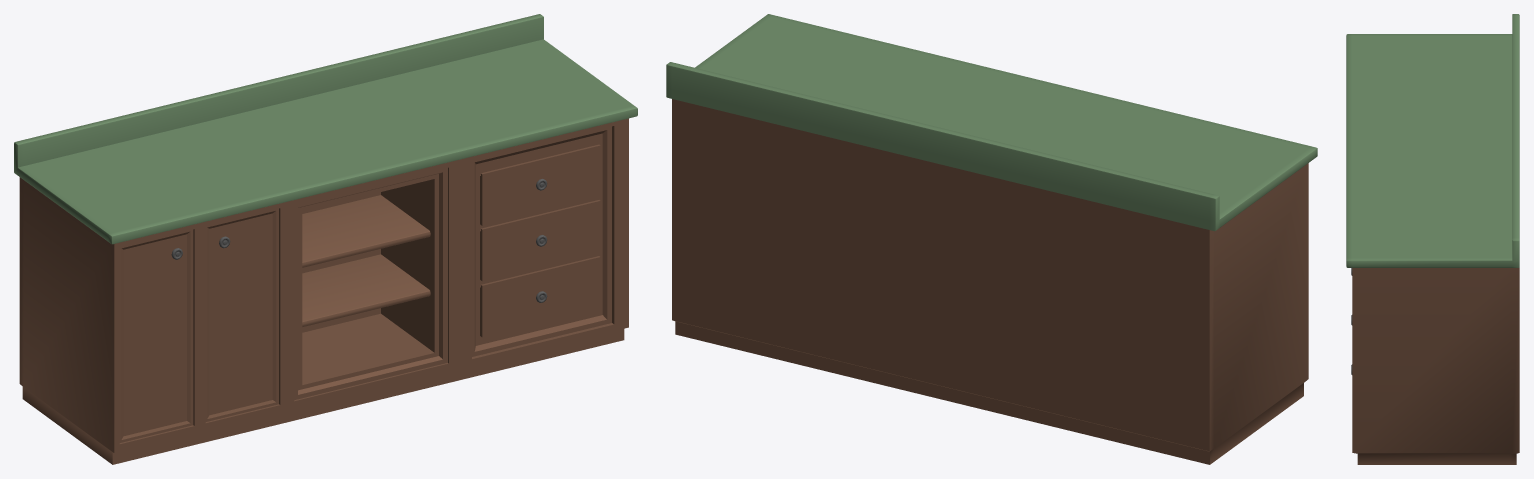
The model's file is Counter.fbx.
3 views of the same model, side by side, from view 1: azimuth 30°, elevation 25°; view 2: azimuth 150°, elevation 25°; view 3: azimuth 270°, elevation 25° (orthographic). The views are drawn at different scales.
Visible parts, largest first — view 1: Counter; view 2: Counter; view 3: Counter.
Part boxes in pixels (box(x1,y1,x2,y2)): Counter: box(14, 14, 637, 464); Counter: box(666, 14, 1317, 464); Counter: box(1346, 14, 1519, 464).
Bounding box in the file's own units: 279 × 131 × 89.86.
